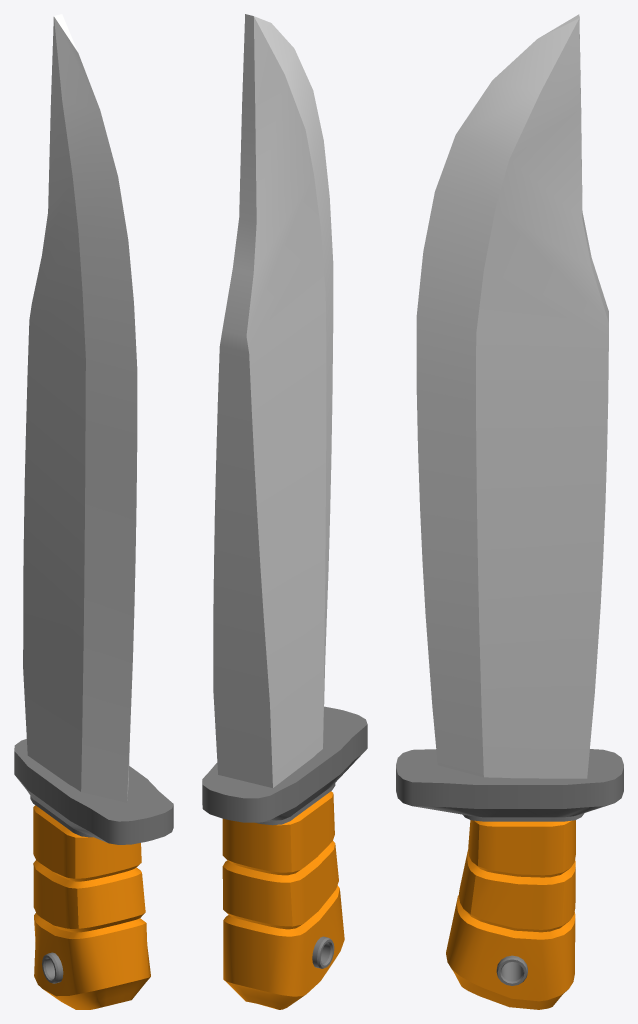
File: Knife.fbx
3 views of the same model, side by side, from view 1: azimuth 30°, elevation 25°; view 2: azimuth 150°, elevation 25°; view 3: azimuth 270°, elevation 25° (orthographic). The views are drawn at different scales.
Parts seen in each view (by area): view 1: Knife; view 2: Knife; view 3: Knife.
Part boxes in pixels (bbox=[...]): Knife: bbox=[14, 14, 173, 1009]; Knife: bbox=[202, 14, 367, 1009]; Knife: bbox=[396, 14, 623, 1009].
Bounding box in the file's own units: 81 × 891 × 187.
